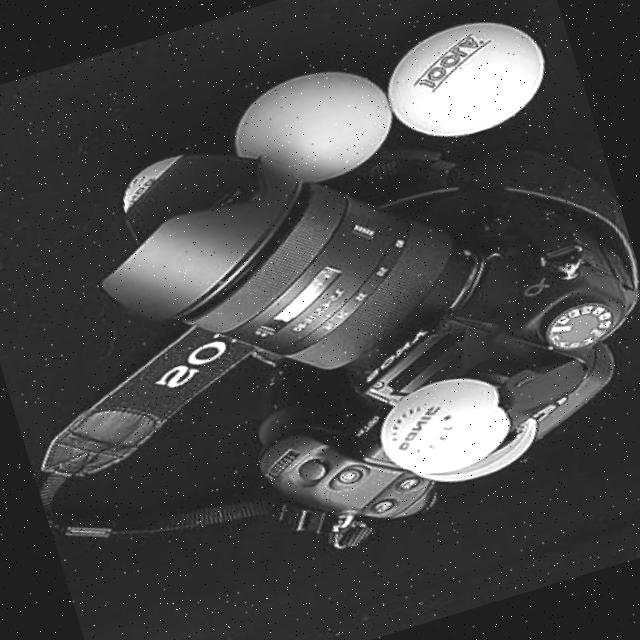ping-pong-ball: (370, 0, 563, 155), (217, 52, 406, 204), (368, 360, 530, 490)
